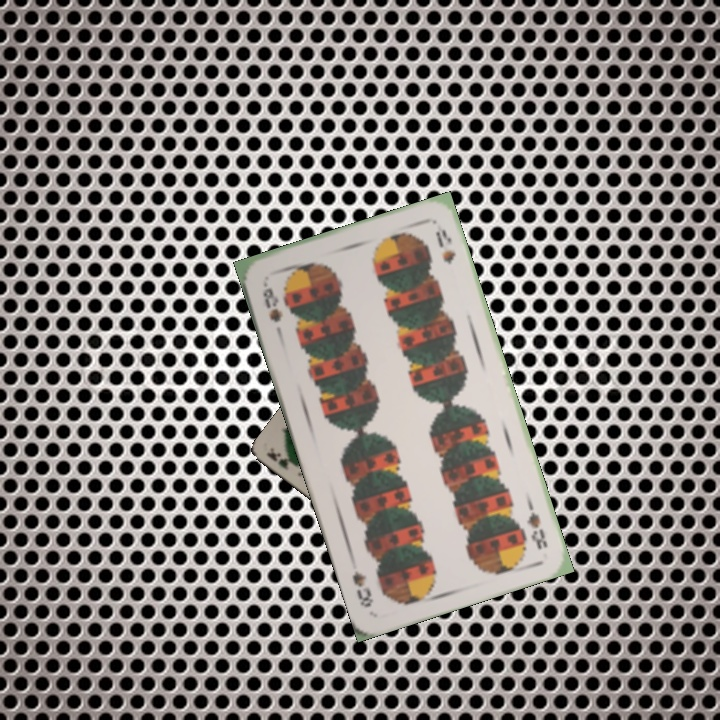GK: (263, 448, 303, 472)
S8: (522, 496, 550, 552), (258, 278, 286, 325)
